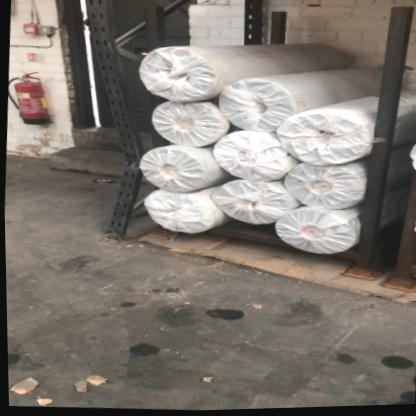vertical_damage: (98, 110, 157, 202)
